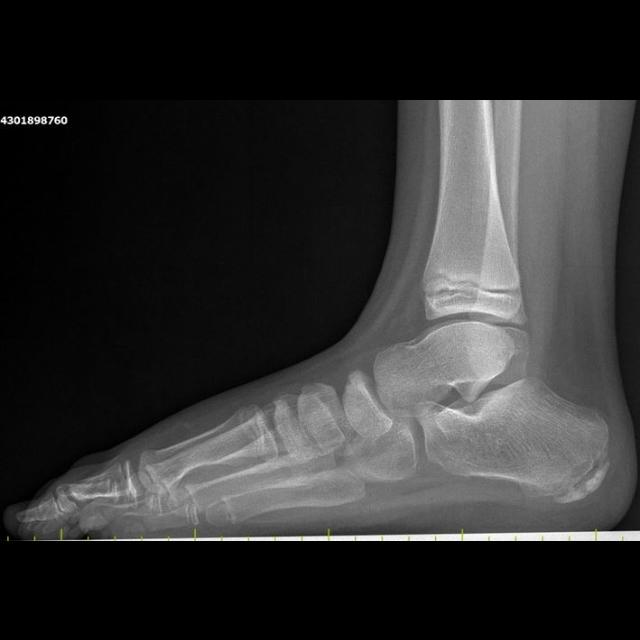a: (416, 376, 609, 502)
b: (344, 369, 394, 437)
c: (139, 406, 276, 493)
